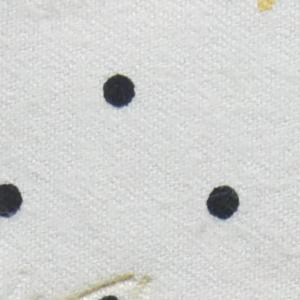Oil Stain: (48, 270, 156, 300)
Stain: (254, 1, 281, 15)
